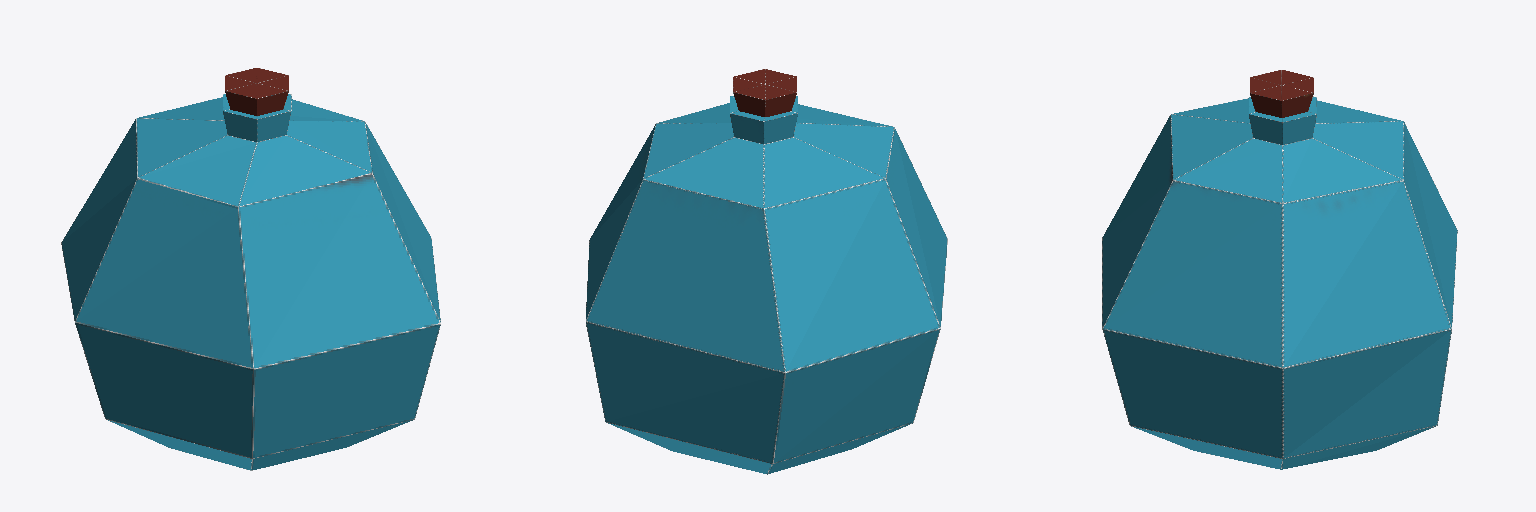
3 views of the same model, side by side, from view 1: azimuth 30°, elevation 25°; view 2: azimuth 150°, elevation 25°; view 3: azimuth 270°, elevation 25° (orthographic).
Parts seen in each view (by area): view 1: BrewKit Pot, BrewKit Cork; view 2: BrewKit Pot, BrewKit Cork; view 3: BrewKit Pot, BrewKit Cork.
Boxes of the visible parts, x1=… form: BrewKit Pot: x1=61, y1=94, x2=440, y2=470; BrewKit Cork: x1=225, y1=68, x2=288, y2=115; BrewKit Pot: x1=586, y1=96, x2=947, y2=474; BrewKit Cork: x1=733, y1=69, x2=796, y2=116; BrewKit Pot: x1=1102, y1=96, x2=1457, y2=469; BrewKit Cork: x1=1250, y1=70, x2=1313, y2=117.
Bounding box in the file's own units: 31.04 × 28.76 × 26.97.
Materials: 2 (1 with a texture image).